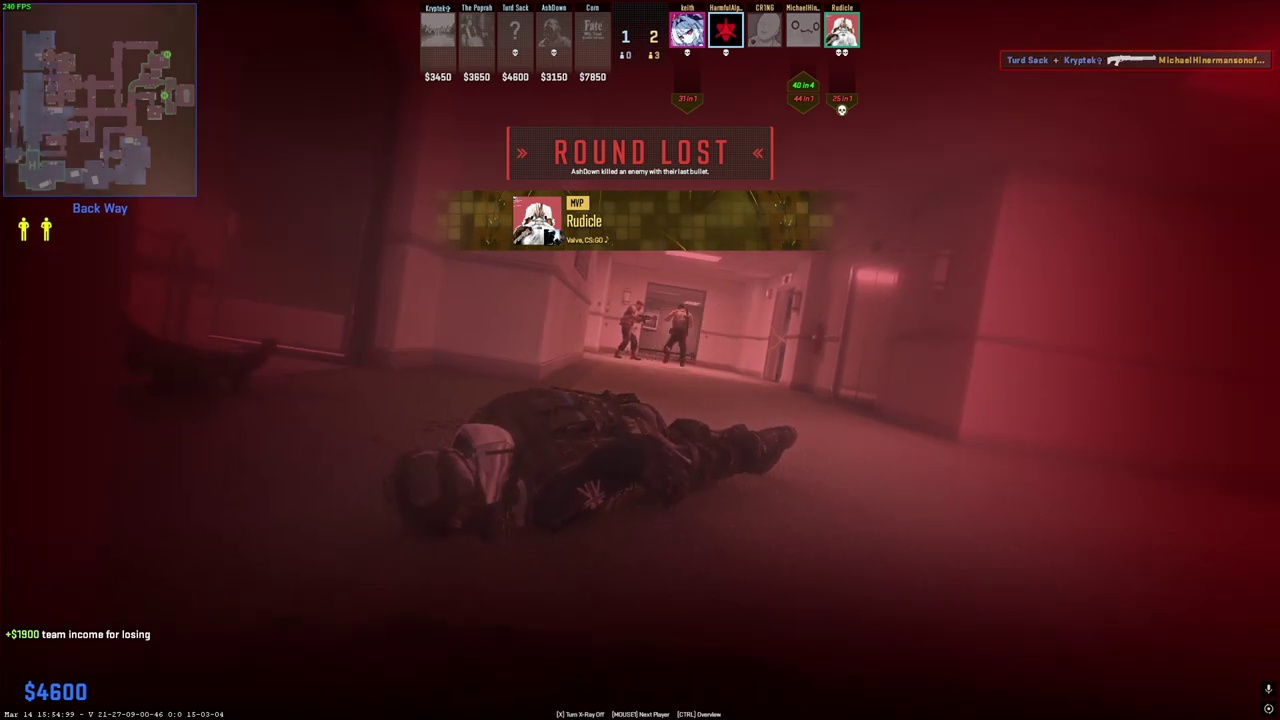Terrorist: (663, 304, 691, 366), (615, 300, 643, 360)
